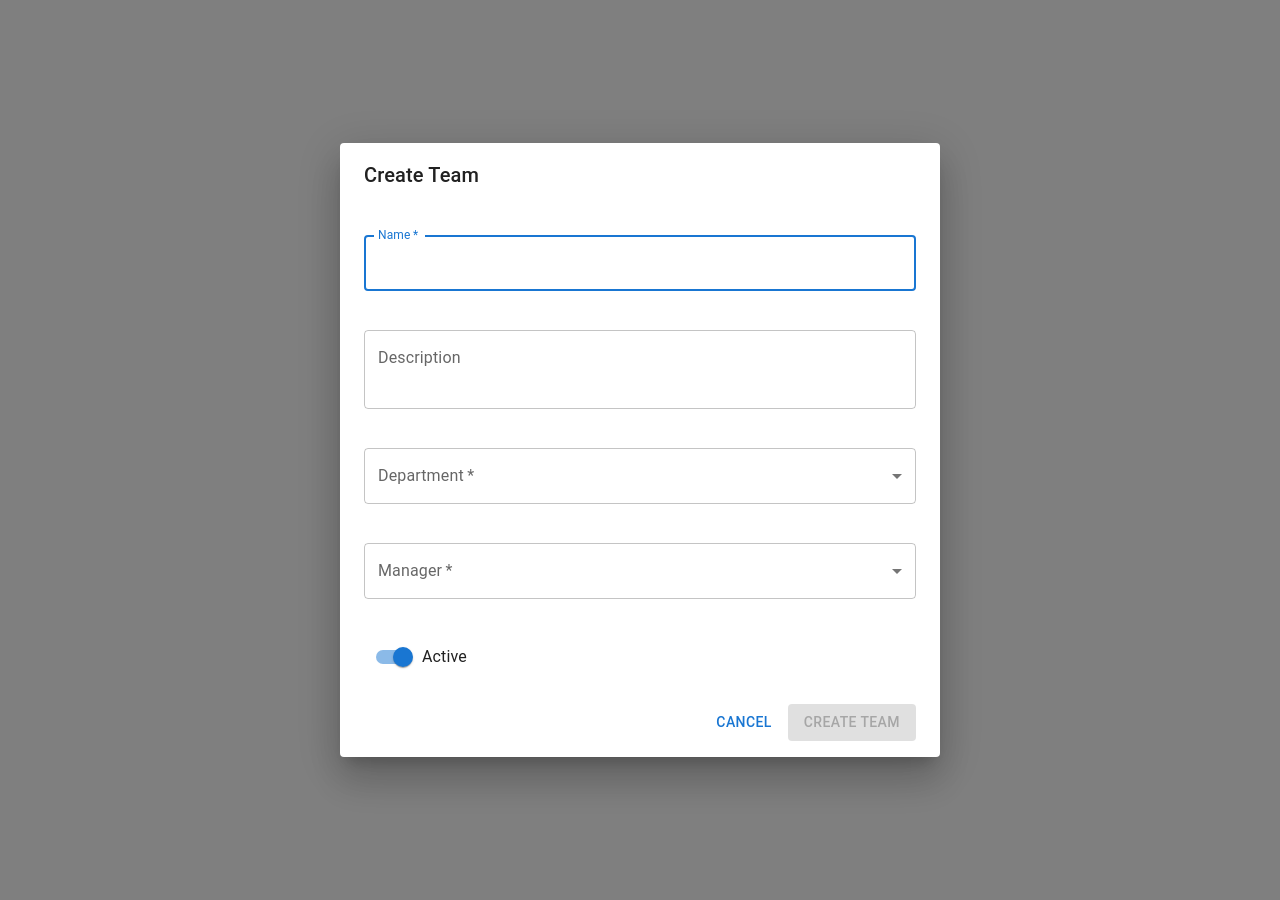
it: create mode › enables submit once name, department, and manager are all filled in
Type "Platform Engineering" into the field labelled "Name *". click: {"x": 640, "y": 263}
box: [364, 235, 916, 291]
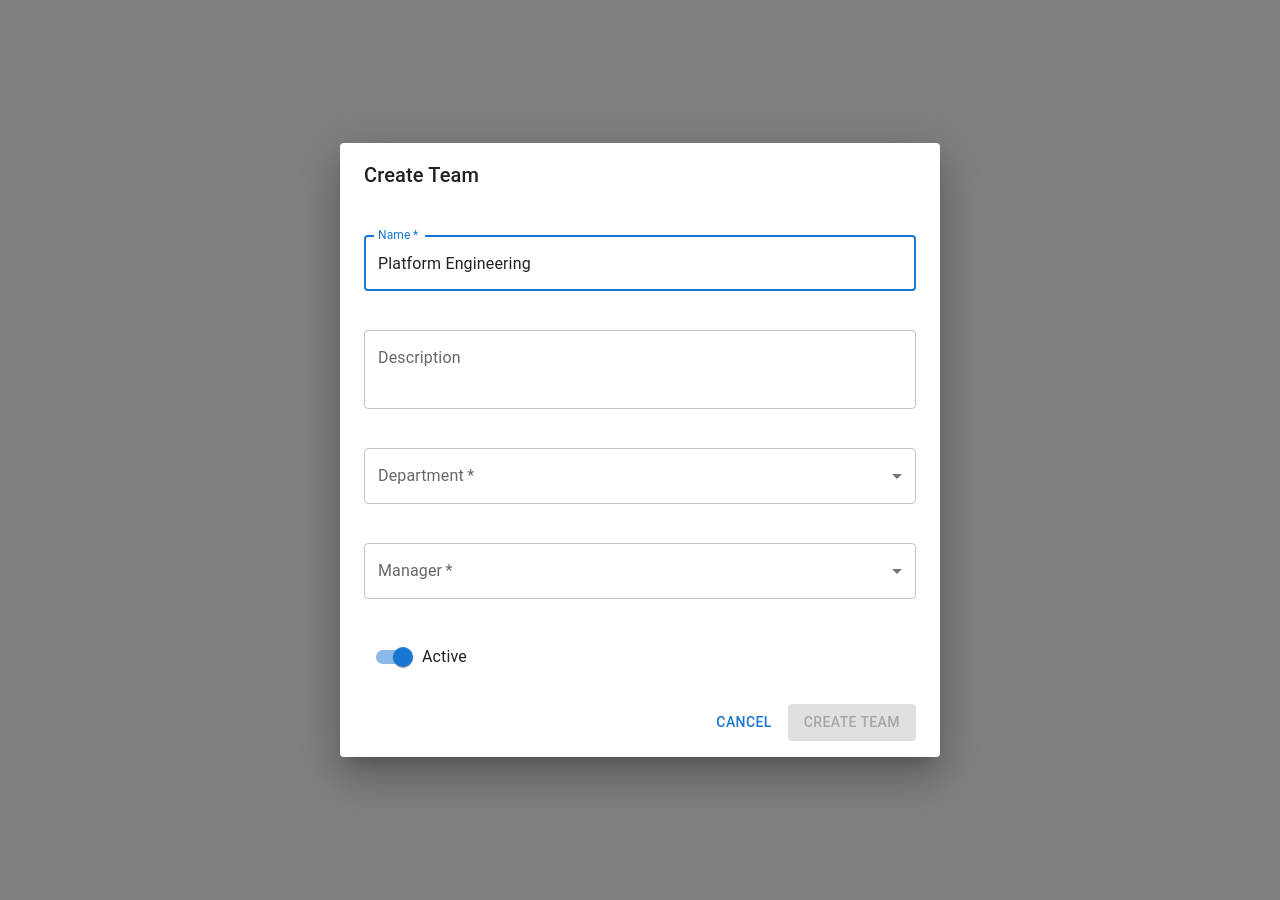
Click the dropdown named "department" next to "Department". click: {"x": 640, "y": 476}
box: [364, 448, 916, 504]
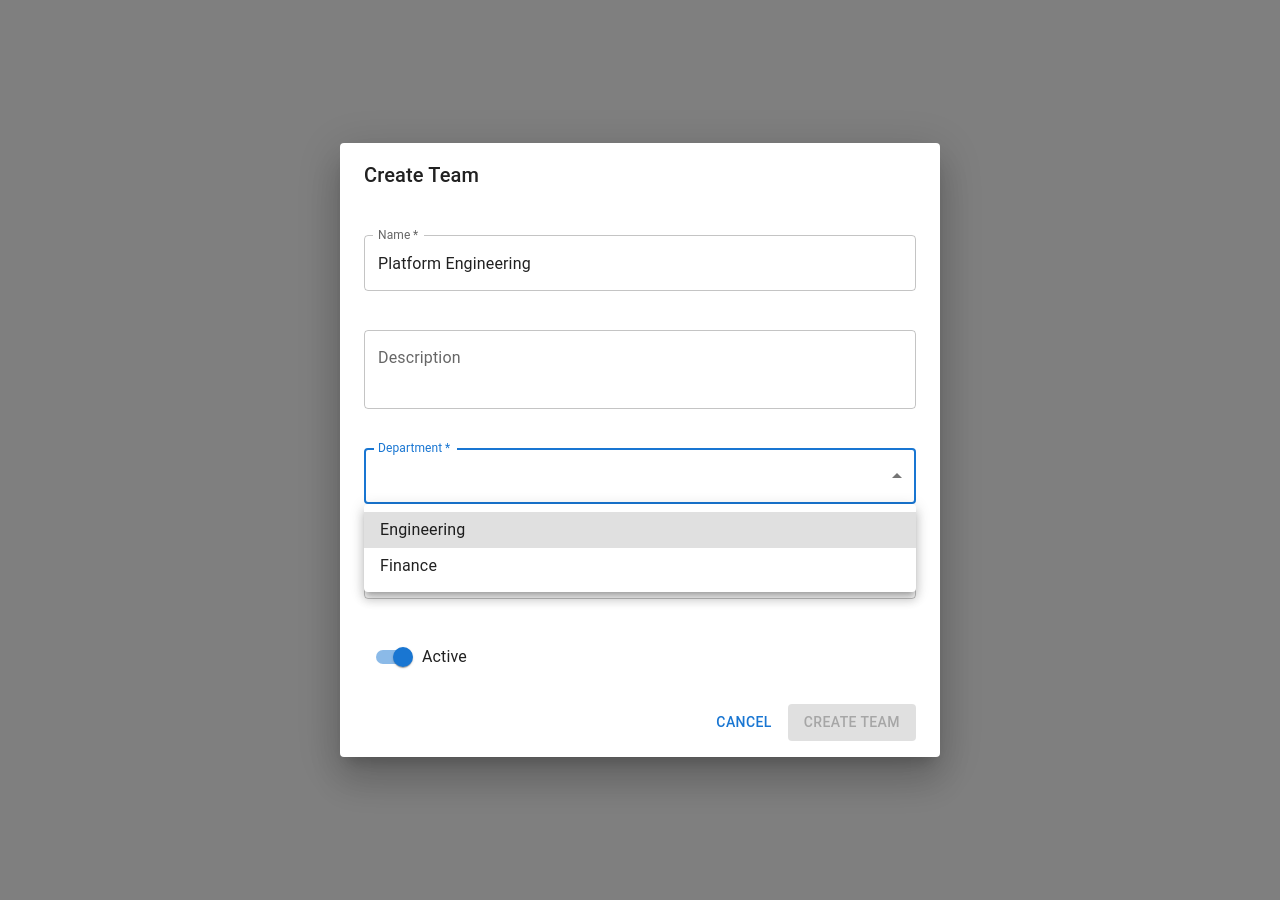
Click the option "Engineering". click: {"x": 423, "y": 530}
box: [364, 512, 916, 548]
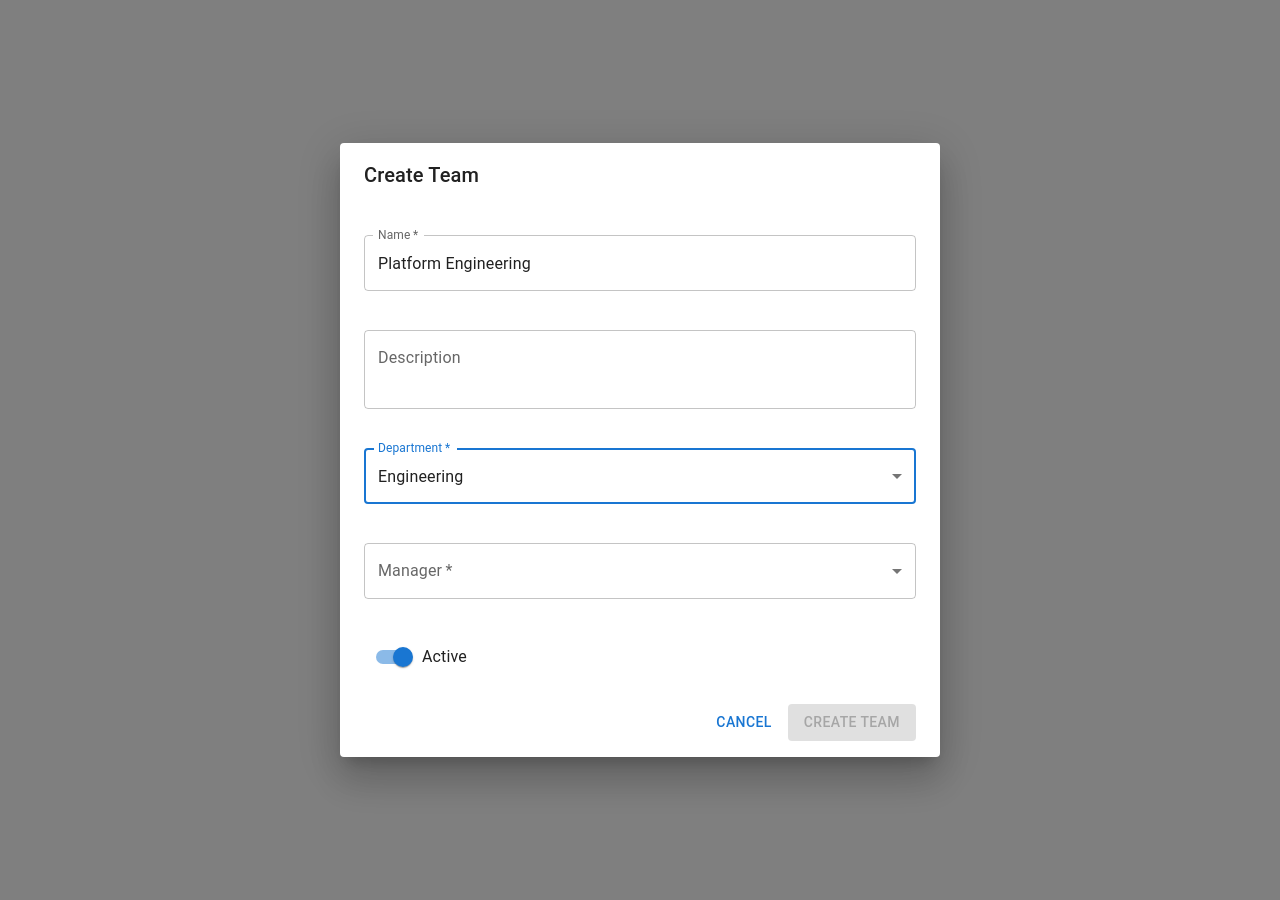
Click the dropdown named "manager". click: {"x": 640, "y": 571}
box: [364, 543, 916, 599]
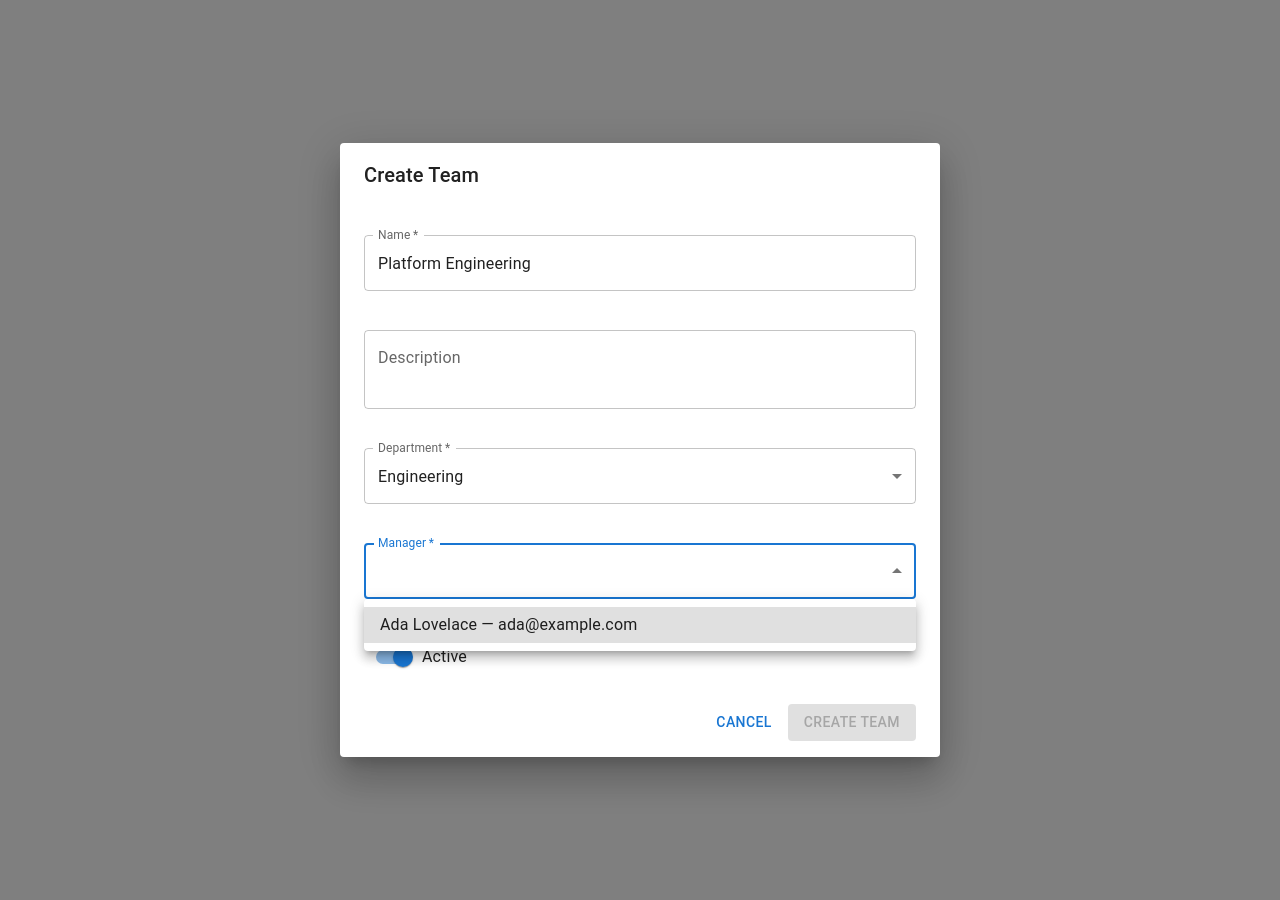
Click the option "Ada Lovelace — ada@example.com". click: {"x": 640, "y": 625}
box: [364, 607, 916, 643]
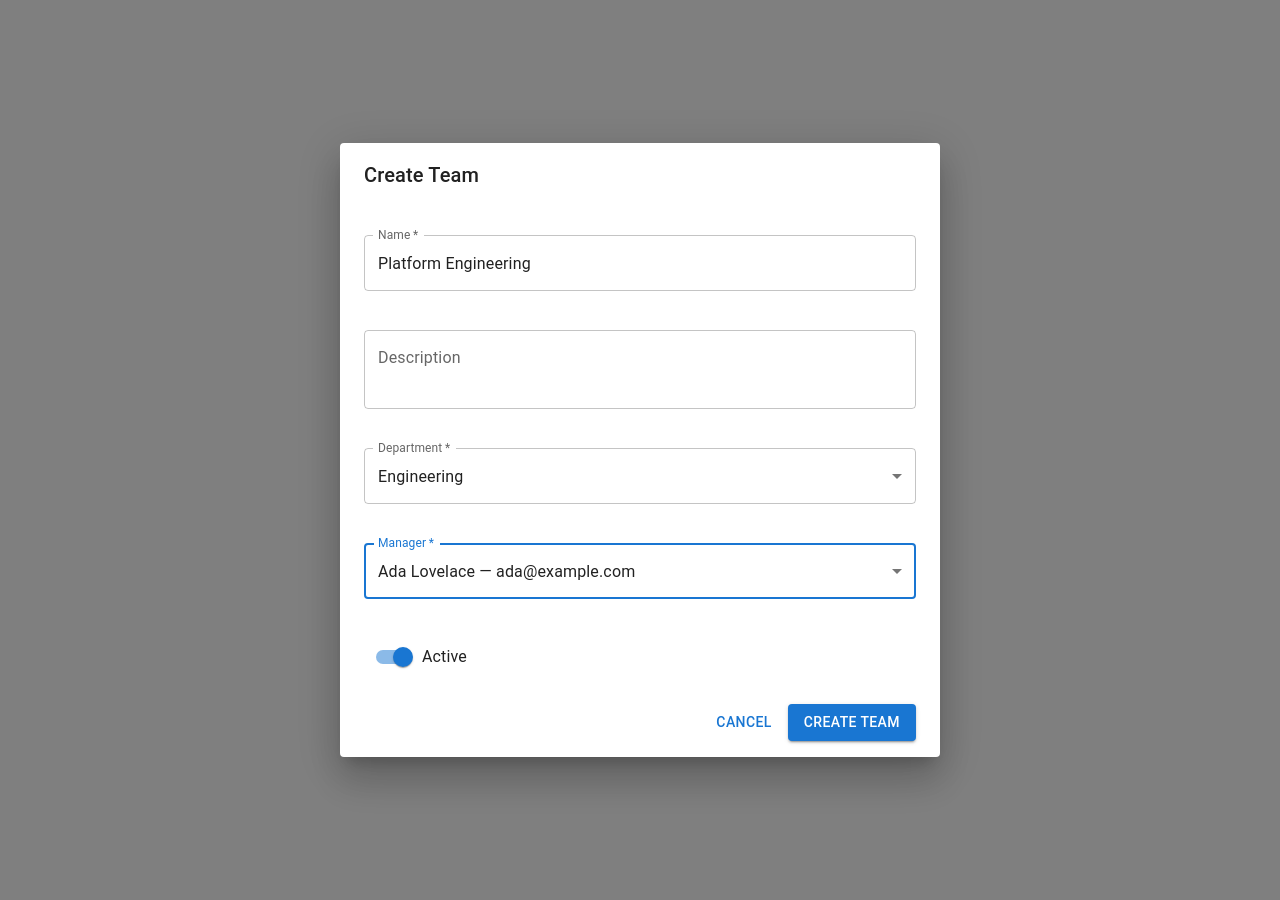
Check: the button "Create Team" is enabled, box [788, 704, 916, 741]
